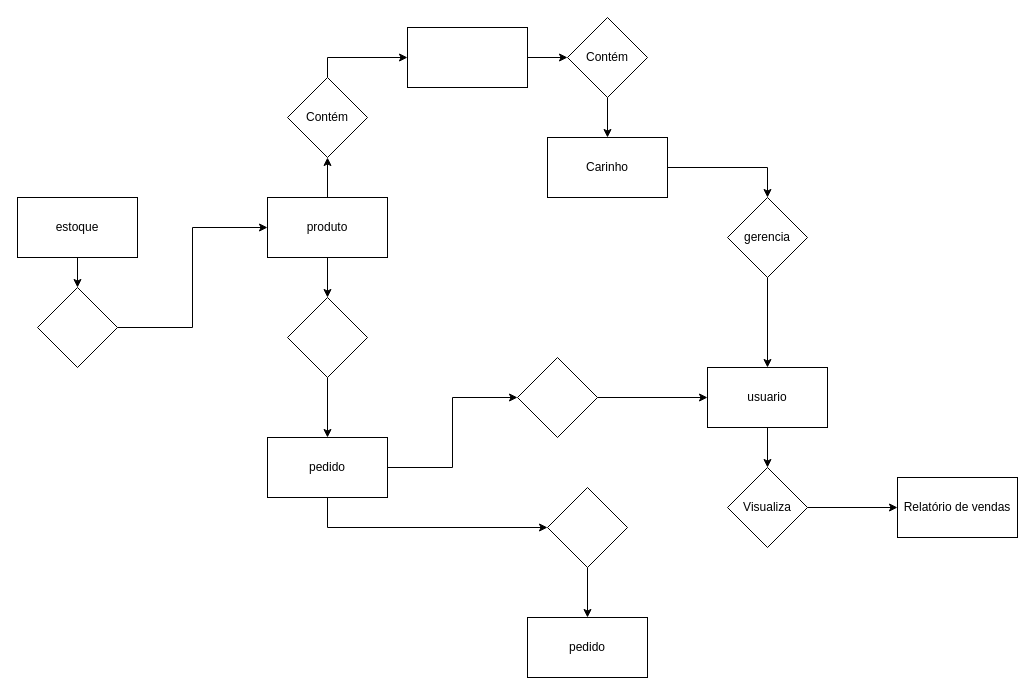
The diagram is 1035 pixels wide and 695 high, and some of its shapes have lost their labels. Each missing label, with the centre of its shape:
inclui: [327,337]
Item carrinho: [467,57]
origina: [587,527]
pertence: [77,327]
realiza: [557,397]
